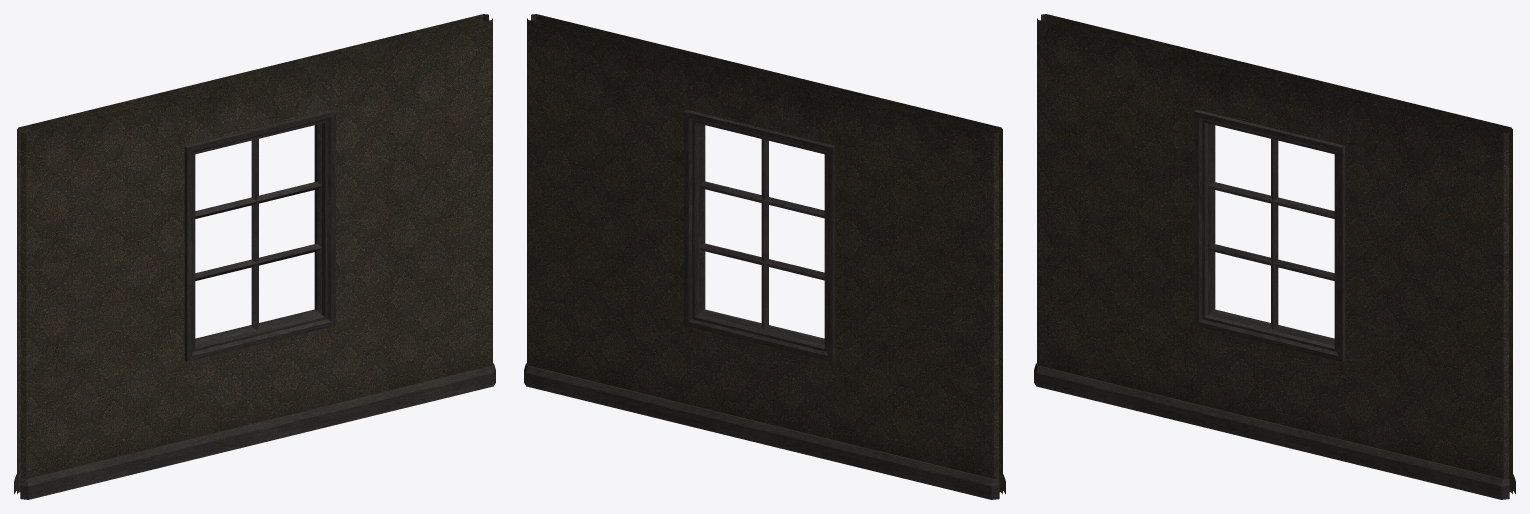
File: window_2_2_single_no_glass.glb
3 renders of one model, left to right at view 1: azimuth 30°, elevation 25°; view 2: azimuth 150°, elevation 25°; view 3: azimuth 330°, elevation 25°, orthographic.
Visible parts, largest first — view 1: window_2_2_single_no_glass; view 2: window_2_2_single_no_glass; view 3: window_2_2_single_no_glass.
Part boxes in pixels (<box>): window_2_2_single_no_glass: <box>14,14,495,499</box>; window_2_2_single_no_glass: <box>524,14,1005,499</box>; window_2_2_single_no_glass: <box>1034,14,1515,499</box>.
Bounding box in the file's own units: 4.09 × 3 × 0.2.
Materials: 2 (2 with a texture image).
